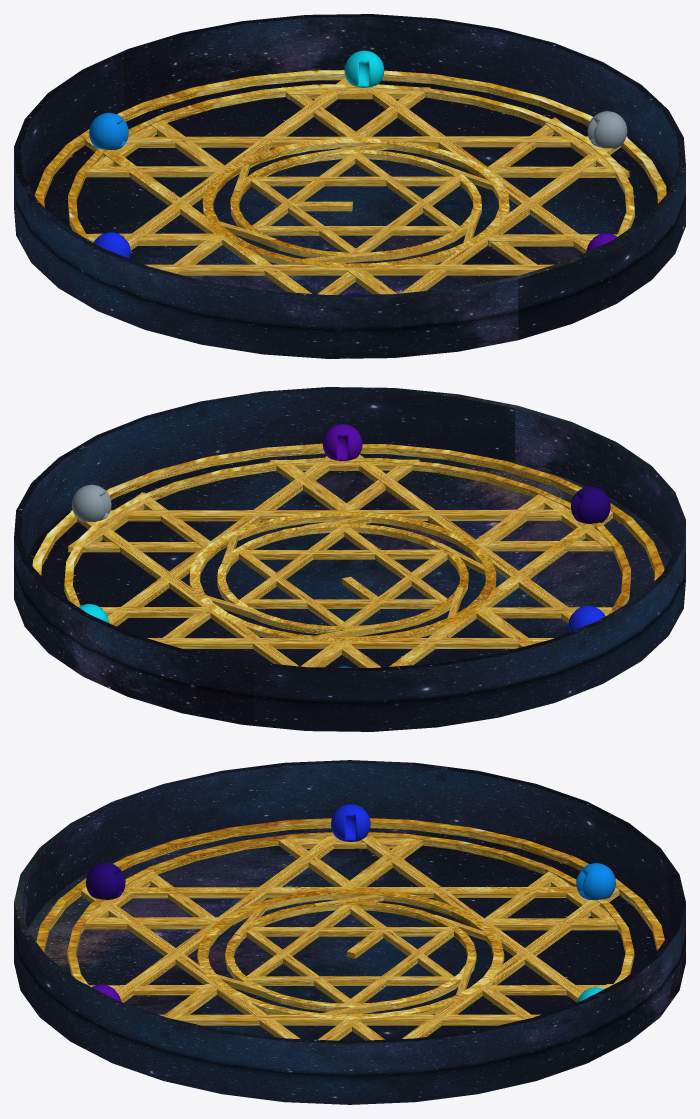
The model's file is thirdfloor_only.glb.
3 renders of one model, top to bottom at view 1: azimuth 30°, elevation 25°; view 2: azimuth 150°, elevation 25°; view 3: azimuth 270°, elevation 25°, orthographic.
Visible parts, largest first — view 1: Cylinder.006, Cube.050, Cylinder.028, Cylinder.022, Cylinder.027, Cylinder.026, Cube.018, Cube.020, Cube.009, Cube.019, Cube.046, Cube.043 (+14 smaller); view 2: Cylinder.006, Cube.050, Cylinder.028, Cylinder.022, Cylinder.027, Cylinder.026, Cube.009, Cube.019, Cube.020, Cube.018, Cube.040, Cube.044 (+12 smaller); view 3: Cylinder.006, Cube.050, Cylinder.028, Cylinder.022, Cylinder.027, Cylinder.026, Cube.019, Cube.018, Cube.009, Cube.020, Cube.045, Cube.042 (+12 smaller).
Part boxes in pixels (left/top/right/bottom): Cylinder.006: left=14, top=14, right=685, bottom=358; Cube.050: left=91, top=87, right=627, bottom=294; Cylinder.028: left=34, top=70, right=666, bottom=207; Cylinder.022: left=202, top=138, right=509, bottom=267; Cylinder.027: left=68, top=84, right=634, bottom=240; Cylinder.026: left=230, top=150, right=481, bottom=261; Cube.018: left=145, top=264, right=553, bottom=275; Cube.020: left=85, top=136, right=627, bottom=147; Cube.009: left=125, top=77, right=349, bottom=250; Cube.019: left=85, top=140, right=311, bottom=293; Cube.046: left=252, top=176, right=456, bottom=186; Cube.043: left=253, top=226, right=454, bottom=235; Cylinder.006: left=14, top=387, right=685, bottom=731; Cube.050: left=69, top=456, right=612, bottom=644; Cylinder.028: left=32, top=443, right=664, bottom=580; Cylinder.022: left=189, top=511, right=496, bottom=641; Cylinder.027: left=64, top=457, right=630, bottom=613; Cylinder.026: left=217, top=523, right=468, bottom=634; Cube.009: left=147, top=638, right=553, bottom=648; Cube.019: left=389, top=511, right=612, bottom=666; Cube.020: left=70, top=510, right=298, bottom=666; Cube.018: left=355, top=454, right=572, bottom=623; Cube.040: left=240, top=549, right=441, bottom=559; Cube.044: left=244, top=599, right=446, bottom=608; Cylinder.006: left=14, top=760, right=685, bottom=1104; Cube.050: left=81, top=838, right=612, bottom=1040; Cylinder.028: left=36, top=818, right=664, bottom=952; Cylinder.022: left=197, top=889, right=504, bottom=1018; Cylinder.027: left=67, top=832, right=634, bottom=985; Cylinder.026: left=225, top=901, right=476, bottom=1011; Cube.019: left=83, top=886, right=619, bottom=898; Cube.018: left=116, top=836, right=339, bottom=1002; Cube.009: left=361, top=836, right=583, bottom=1002; Cube.020: left=402, top=887, right=618, bottom=1038; Cube.045: left=247, top=976, right=453, bottom=985; Cube.042: left=248, top=927, right=452, bottom=936.
Size of the model in its own units: 20.43 by 2.04 by 20.43.
Materials: 8 (2 with a texture image).
